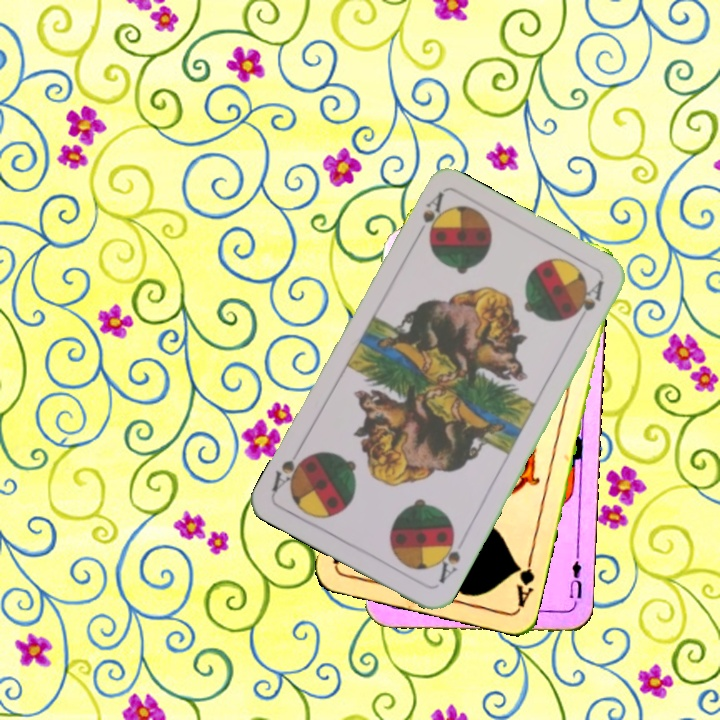EU: (565, 551, 585, 610)
GA: (511, 551, 537, 610)
SA: (410, 188, 447, 243), (432, 529, 463, 587)
